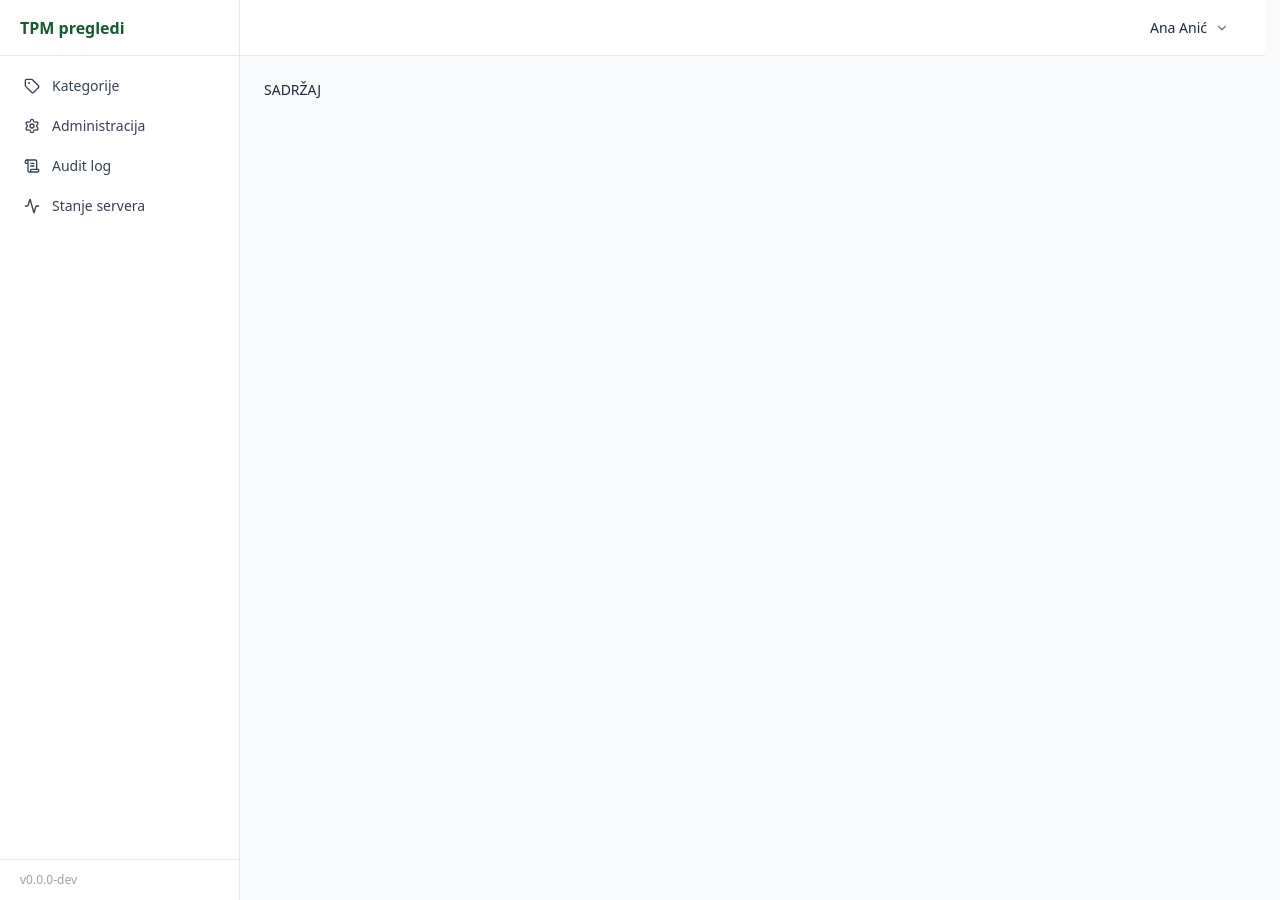
AppLayout — header i korisnički meni › meni nudi „O aplikaciji", „Promena lozinke" i „Odjavi se"; odjava poziva logout
Click the button "Ana Anić" at [1190, 28], box x1=1138 y1=12 x2=1241 y2=44
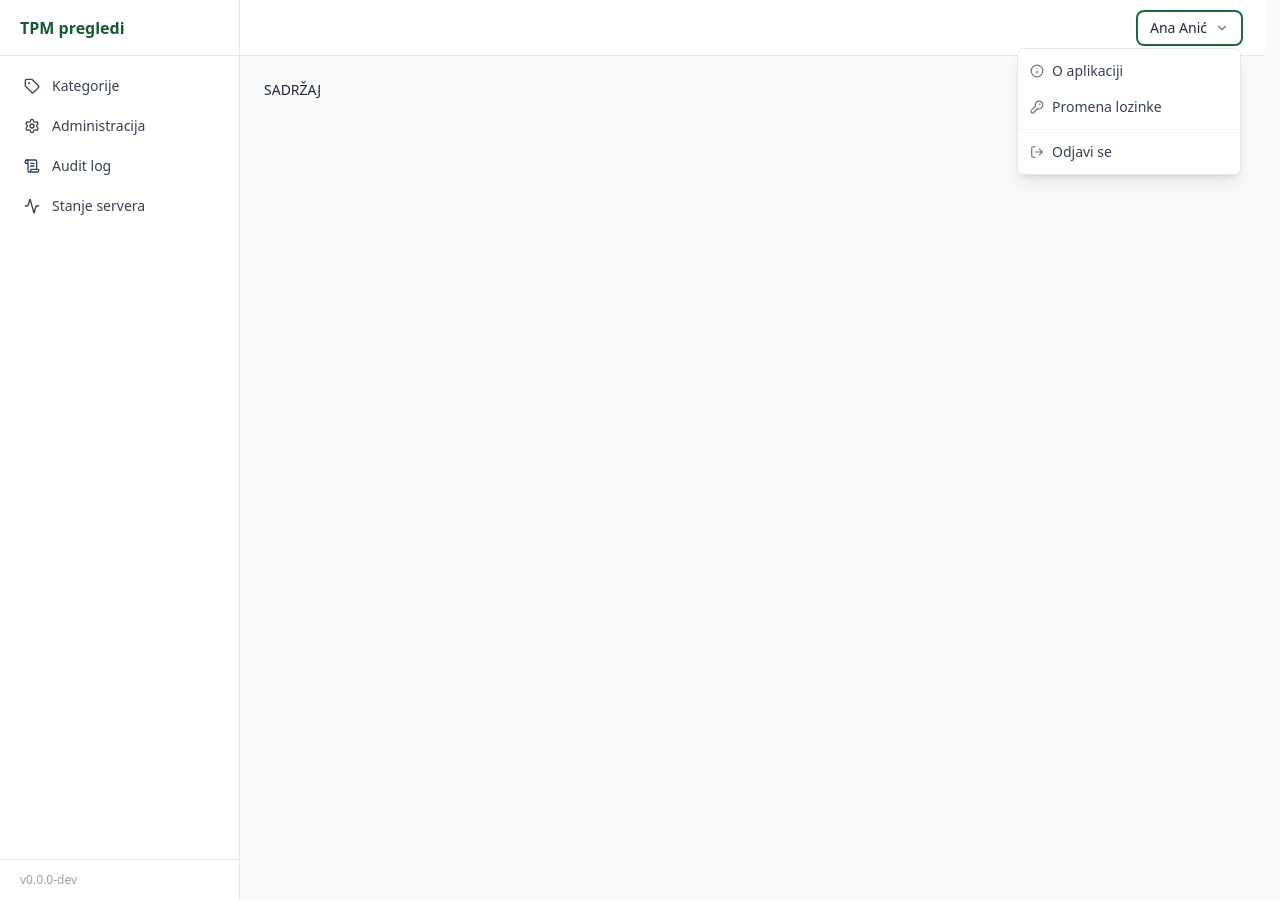
Now the menu is shown, box x1=1018 y1=52 x2=1240 y2=170
Now the menu item "O aplikaciji" is shown, box x1=1018 y1=52 x2=1240 y2=88
Now the menu item "Promena lozinke" is shown, box x1=1018 y1=88 x2=1240 y2=124
Click the menu item "Odjavi se" at [1129, 152], box x1=1018 y1=134 x2=1240 y2=170
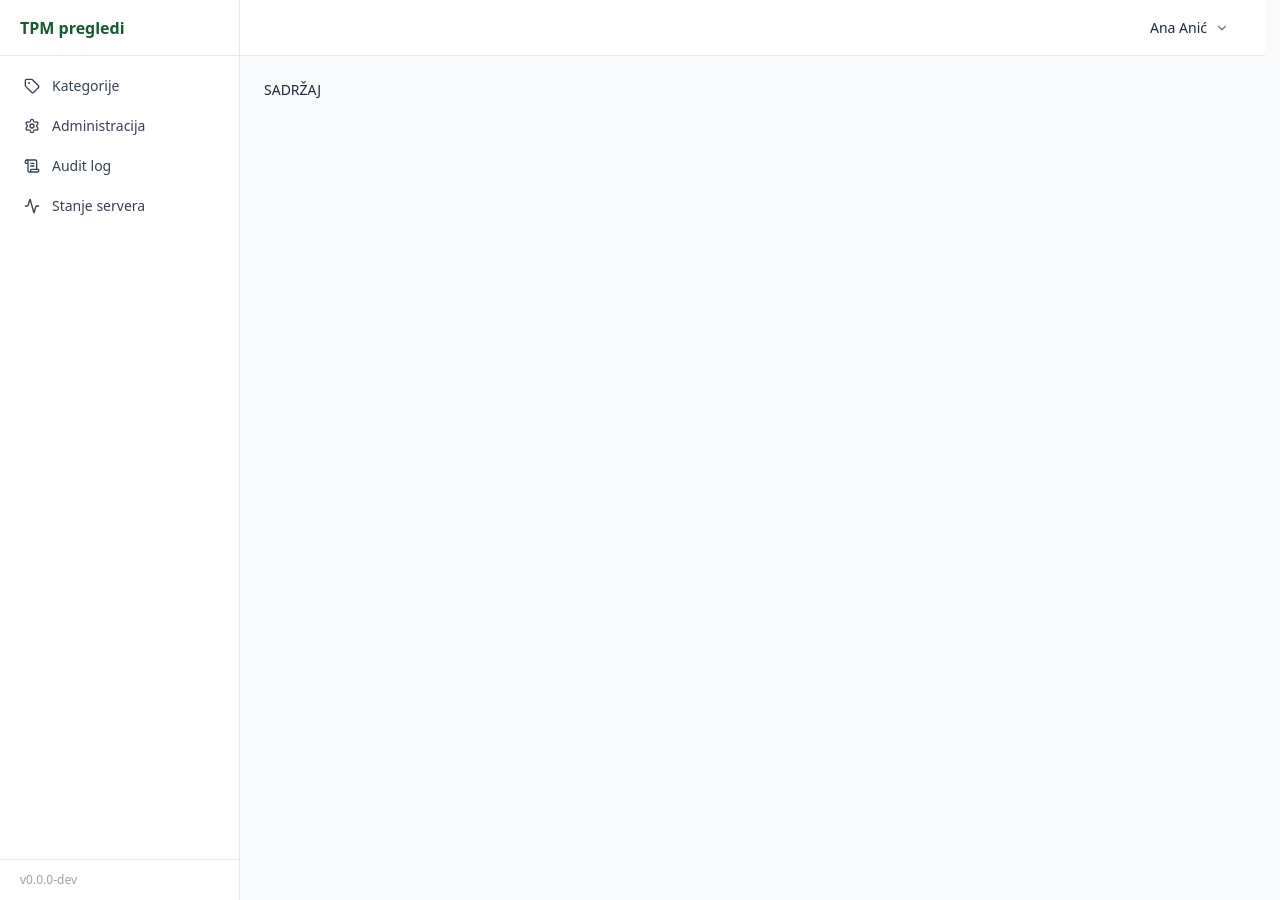
Now the menu is gone
